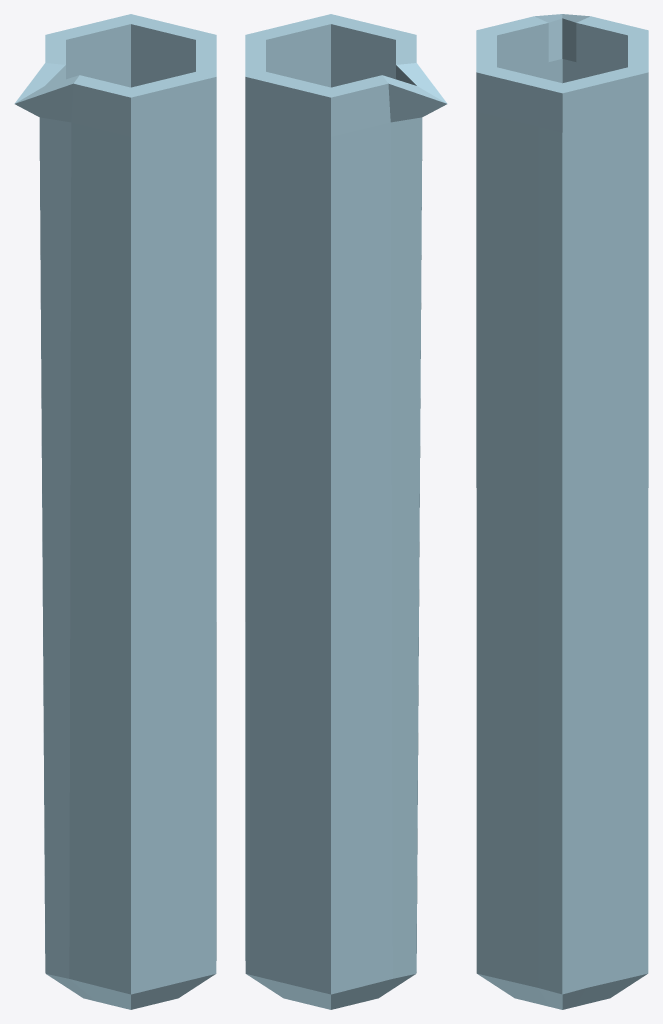
File: SM_Flask_D.fbx
3 views of the same model, side by side, from view 1: azimuth 30°, elevation 25°; view 2: azimuth 150°, elevation 25°; view 3: azimuth 270°, elevation 25° (orthographic).
Parts seen in each view (by area): view 1: SM_Flask_D; view 2: SM_Flask_D; view 3: SM_Flask_D.
Boxes of the visible parts, x1,y1,x2,y2 form: SM_Flask_D: [14, 14, 216, 1009]; SM_Flask_D: [245, 14, 447, 1009]; SM_Flask_D: [476, 14, 648, 1009].
Bounding box in the file's own units: 3.73 × 16.4 × 2.74.
